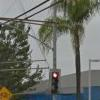Palm tree: (57, 1, 97, 97)
